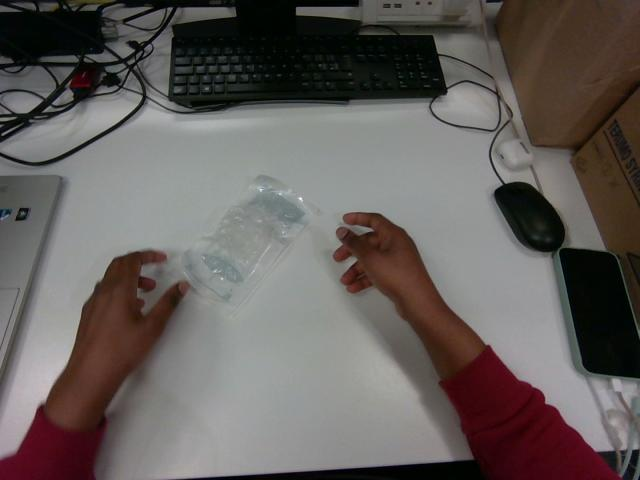gallipot: (181, 176, 319, 308)
